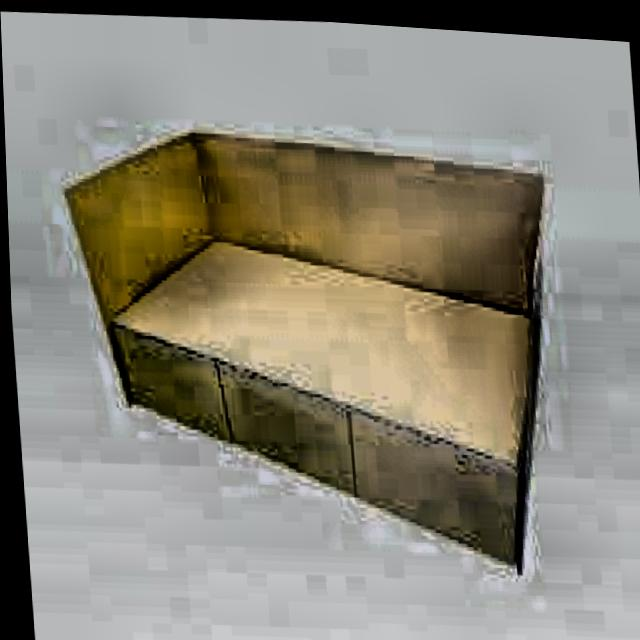Cardbox: (44, 81, 587, 600)
